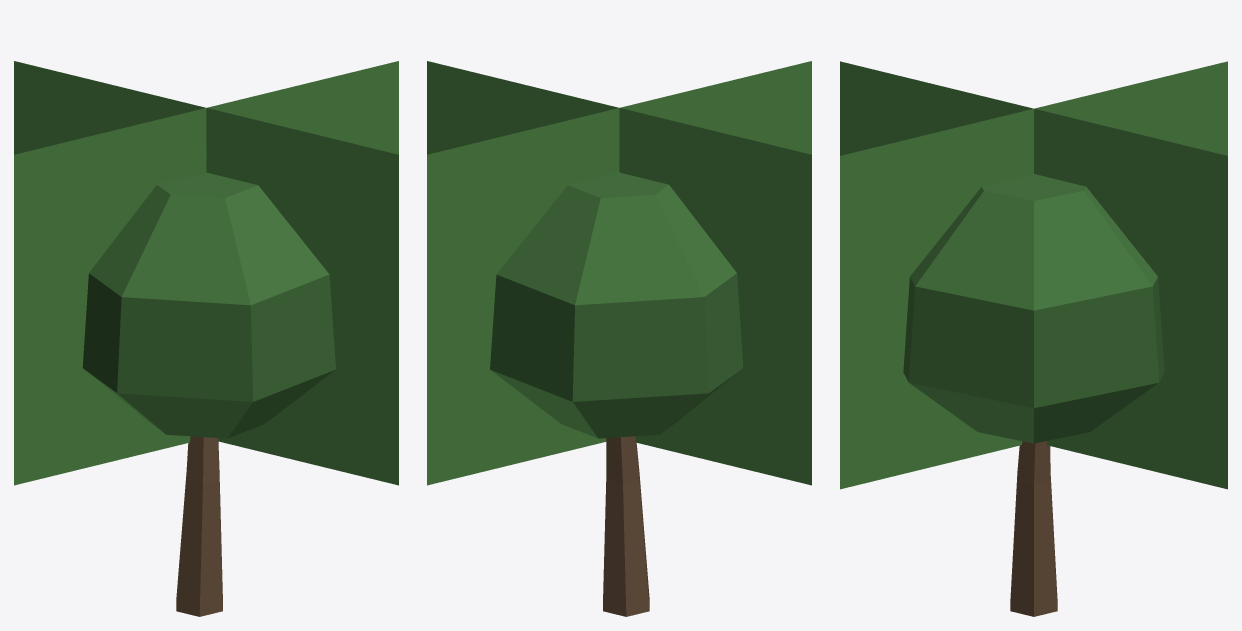
File: tree-round.glb
3 views of the same model, side by side, from view 1: azimuth 30°, elevation 25°; view 2: azimuth 150°, elevation 25°; view 3: azimuth 270°, elevation 25° (orthographic).
Visible parts, largest first — view 1: tree-round; view 2: tree-round; view 3: tree-round.
Part boxes in pixels (<box>): tree-round: <box>14,61,398,616</box>; tree-round: <box>427,61,811,616</box>; tree-round: <box>840,61,1227,616</box>.
Size of the model in its own units: 5.6 by 6.9 by 4.85.
